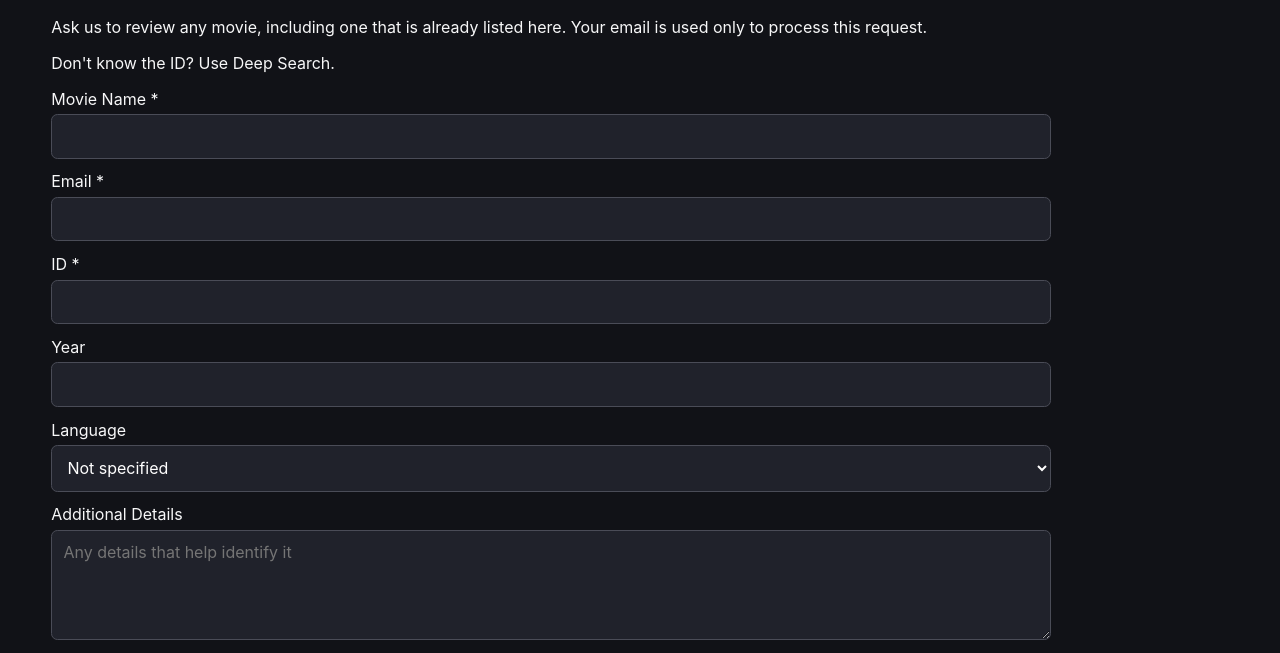
Scenario: keeps a successful request when confirmation email delivery fails
Step 1. Type "Typo Film" into the field labelled "Movie Name *" → (551, 136), box top-left (51, 114), bottom-right (1051, 159)
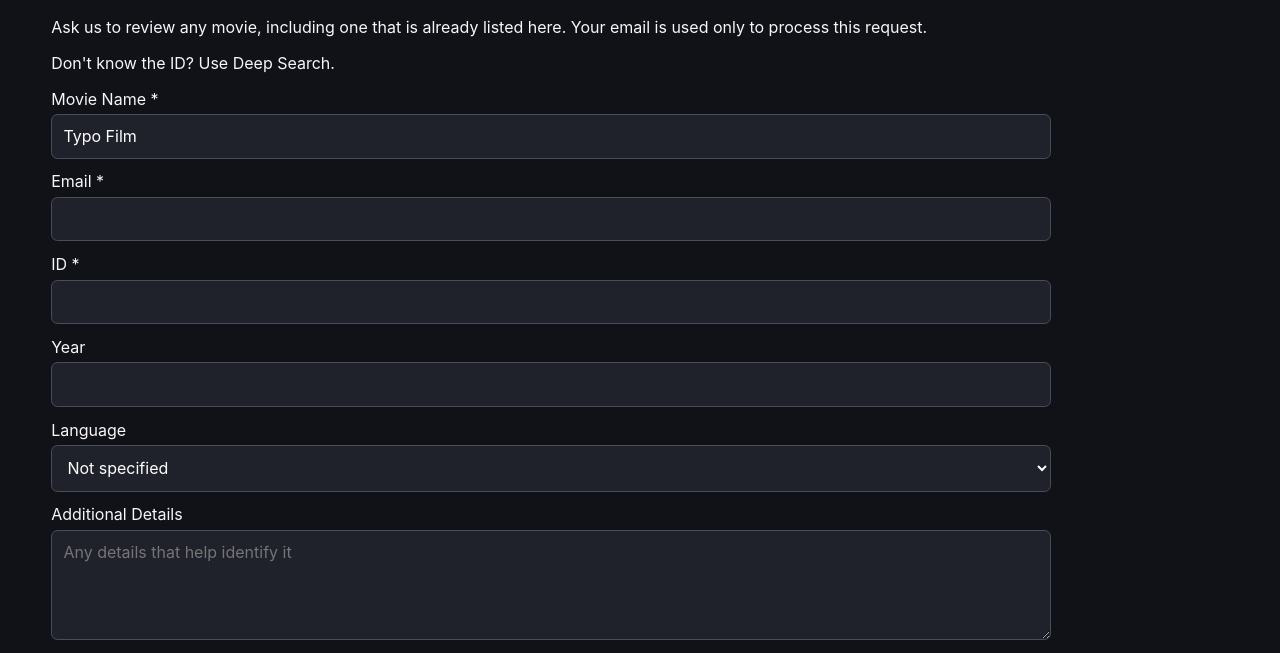
Step 2. Type "viewer@example.com" into the field labelled "Email *" → (551, 219), box top-left (51, 197), bottom-right (1051, 241)
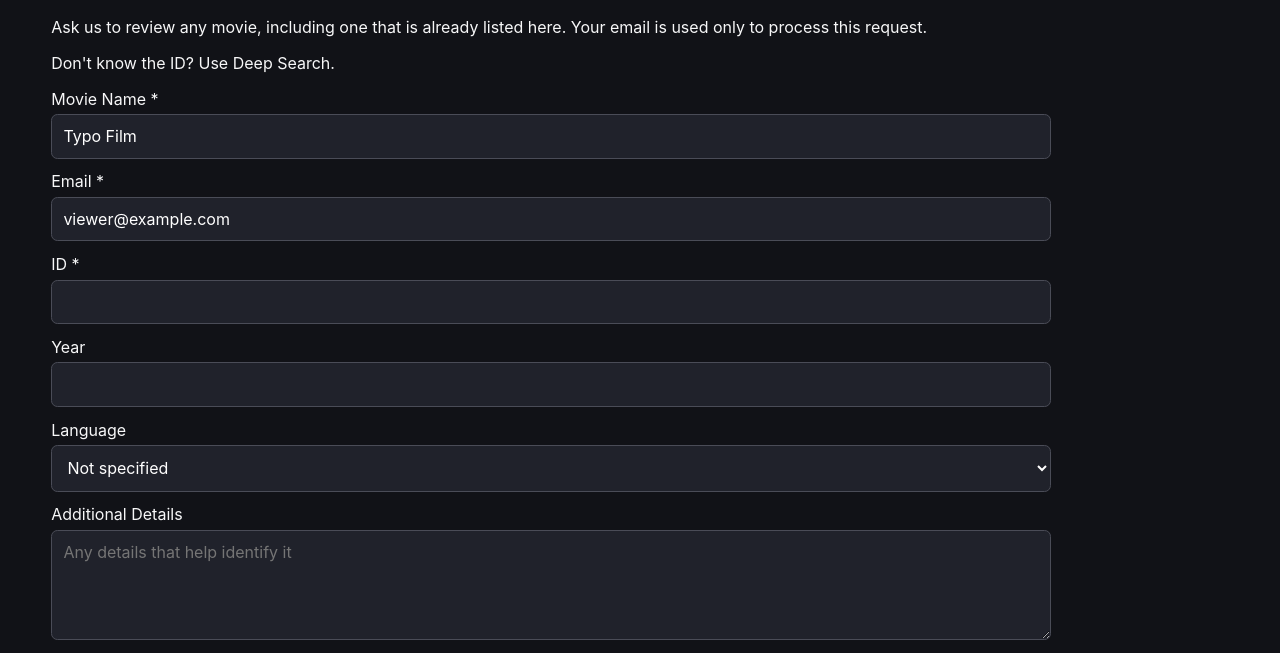
Step 3. Type "123" into the number field labelled "ID *" → (551, 302), box top-left (51, 280), bottom-right (1051, 324)
(page scrolled)
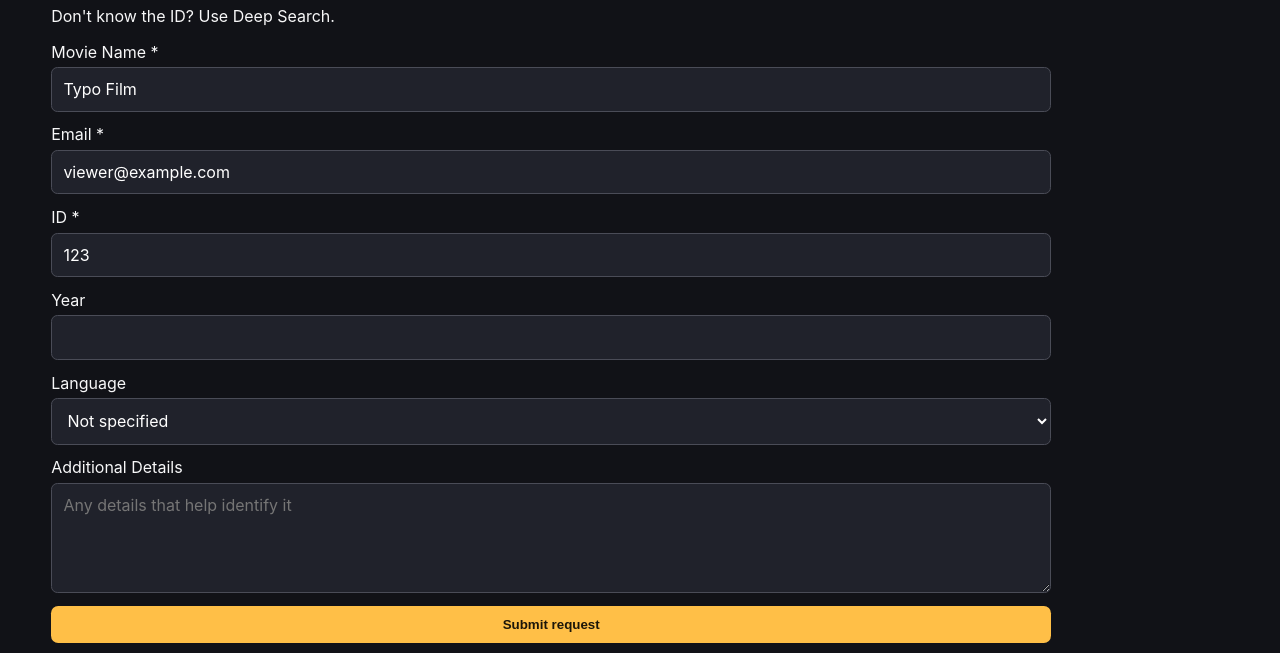
Step 4. Click the button "Submit request" → click(551, 624), box top-left (51, 606), bottom-right (1051, 643)
(page scrolled)
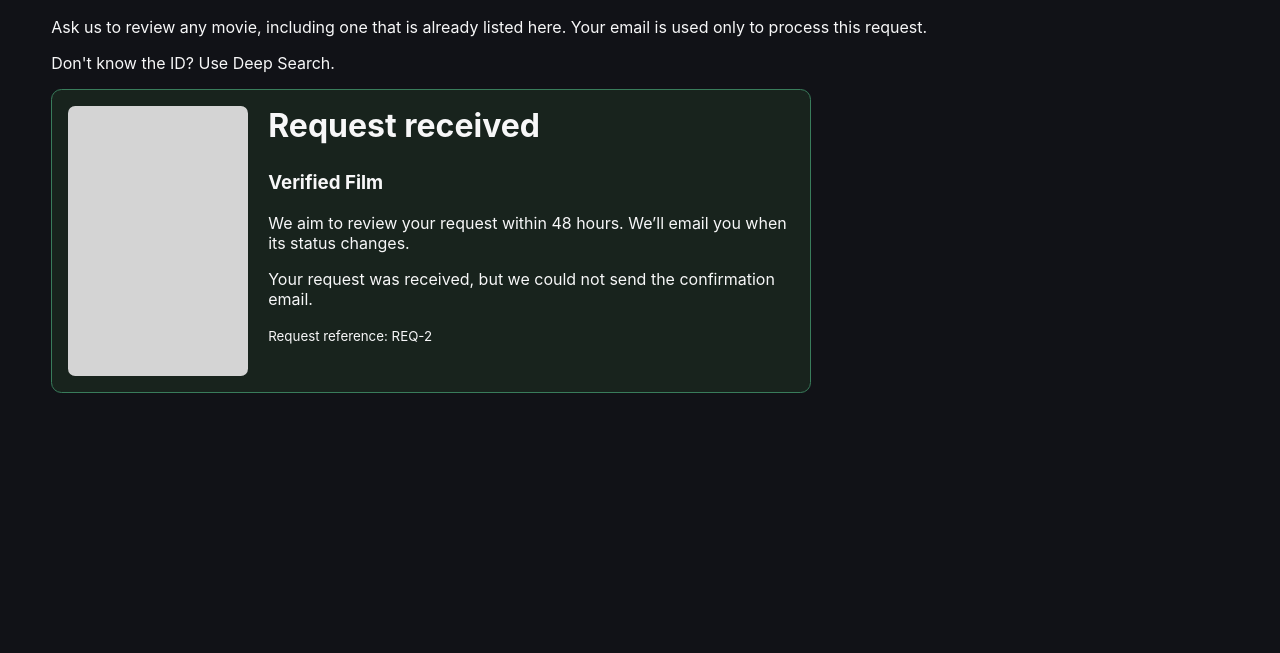
Result: the heading "Verified Film" is shown at top-left (268, 171), bottom-right (383, 194)
Result: the text "request was received, but we could not send" is shown at top-left (268, 269), bottom-right (775, 309)
